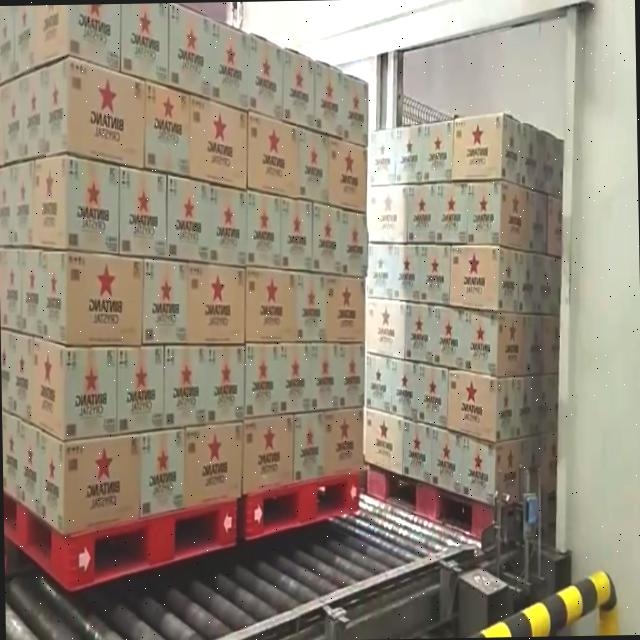pallet: (0, 1, 243, 609), (348, 109, 576, 546), (228, 3, 384, 586)
